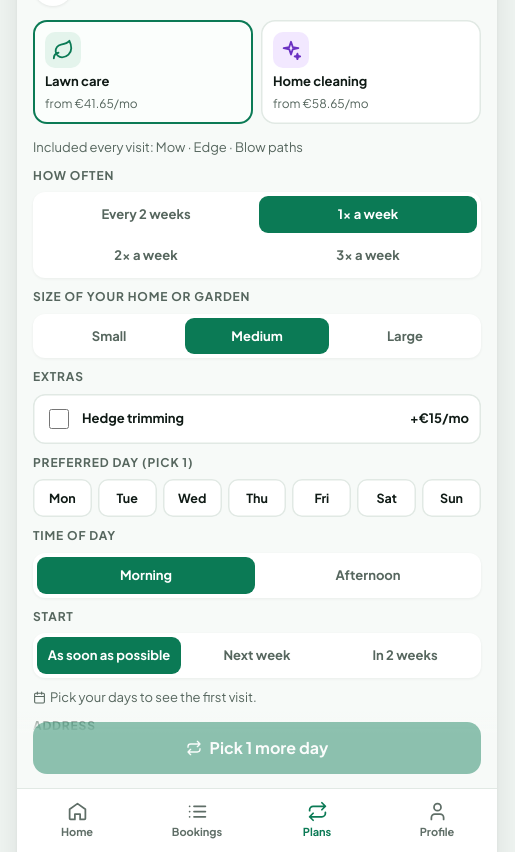
Test: Plan builder (D90) › shows what is wrong with the address before sending anything
Click the checkbox labelled "Tue" at (127, 498), box [98,479,157,517]
(page scrolled)
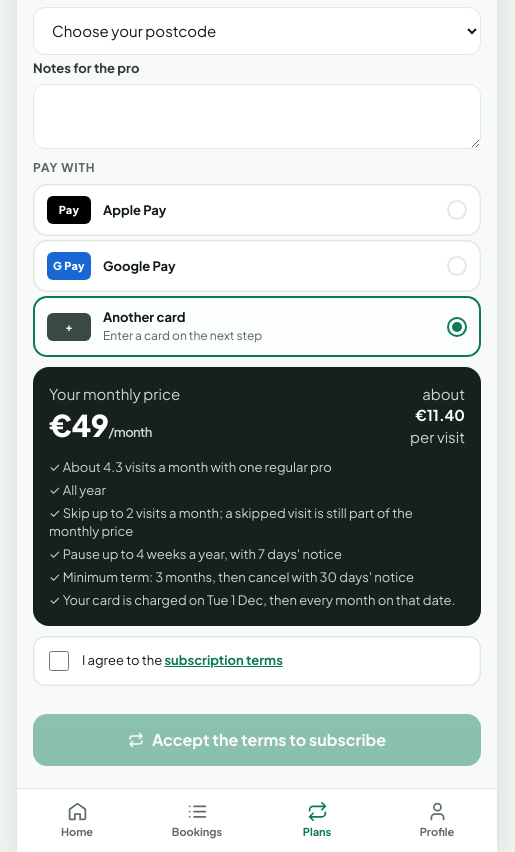
Click the checkbox named "I agree to the subscription terms" at (59, 661), box [49,651,69,671]
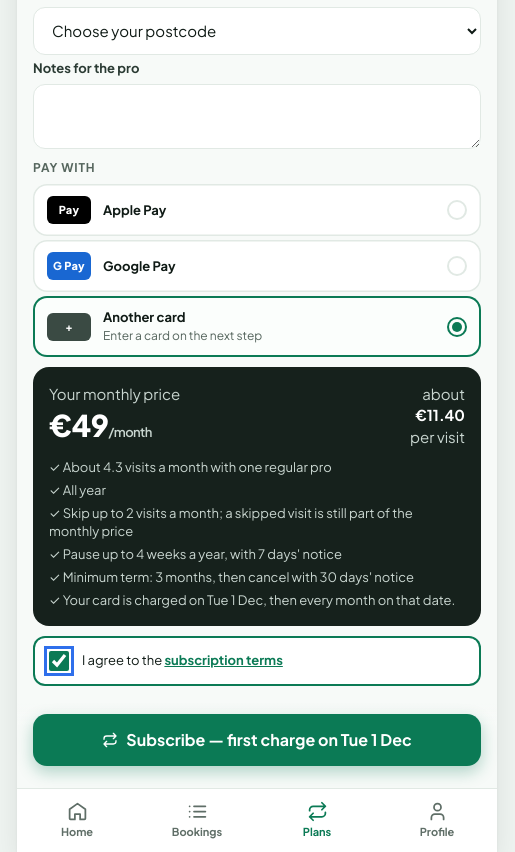
Click the button "Subscribe — first charge on Tue 1 Dec" at (257, 740), box [33,714,481,766]
(page scrolled)
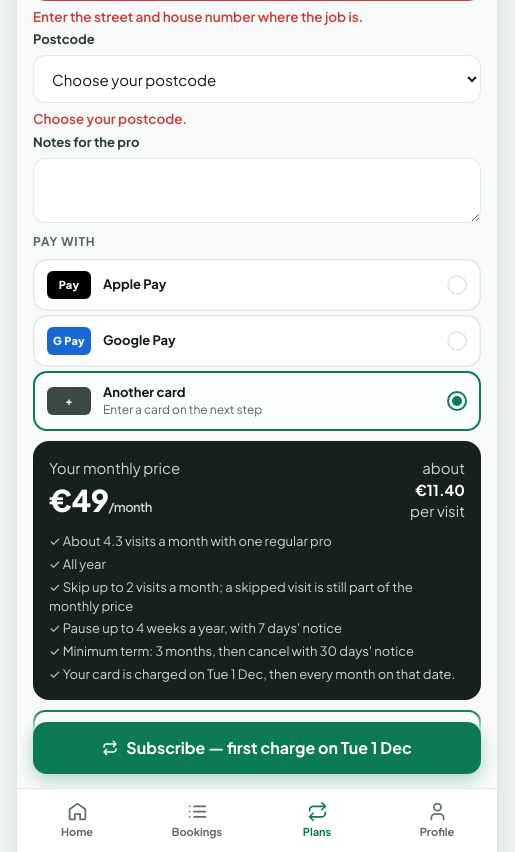
Expected: the text "Enter the street and house number where the job is." is shown, [33,8,363,25]
Expected: the text "Choose your postcode." is shown, [33,110,187,127]
